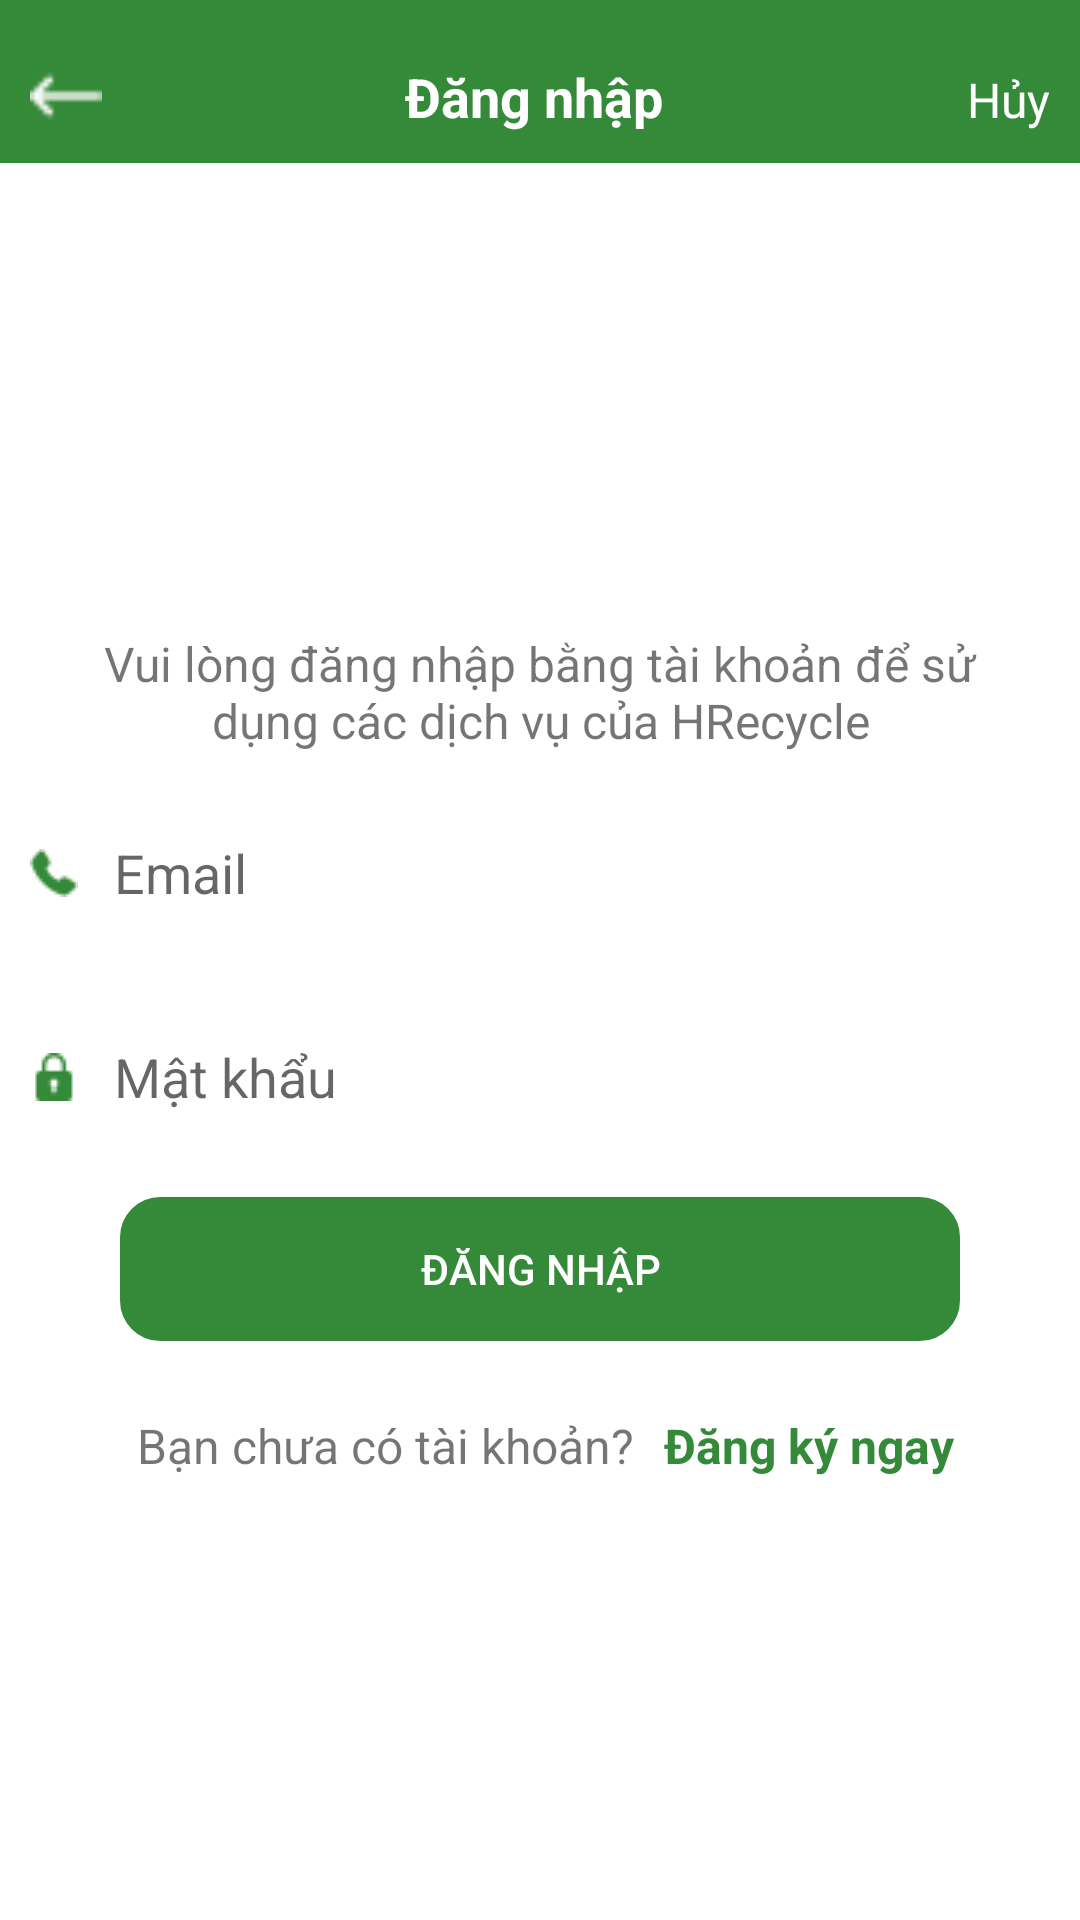

Screen size 1080px×1920px. Icon name, then its center in pixels as (x,y):
left arrow: (66,96)
